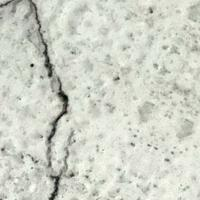crack: (0, 0, 73, 193)
